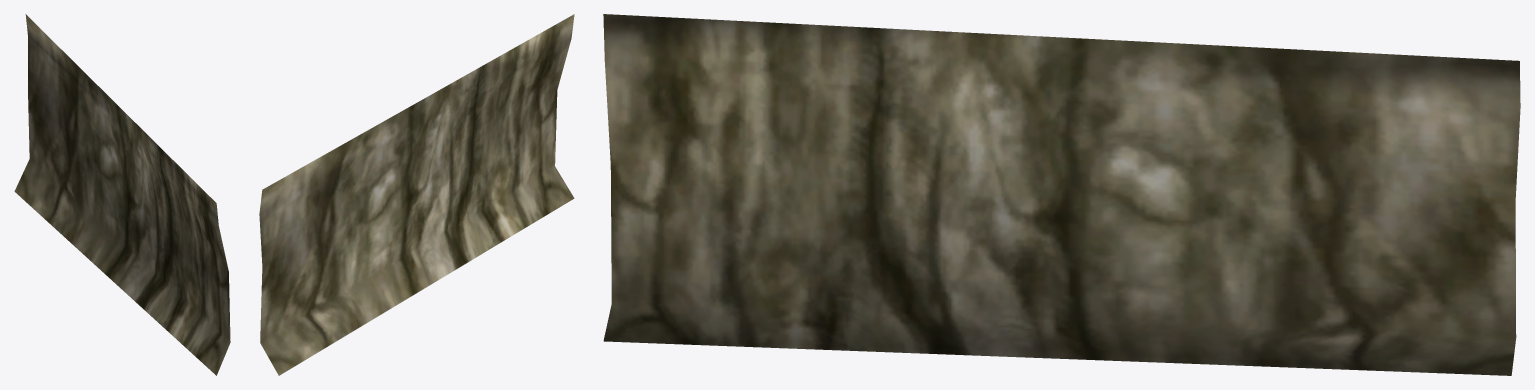
The model's file is CB_NEWPLAYSURFACE_CB_PLAYSURFACE121.fbx.
3 renders of one model, left to right at view 1: azimuth 30°, elevation 25°; view 2: azimuth 150°, elevation 25°; view 3: azimuth 270°, elevation 25°, orthographic. The views are drawn at different scales.
Parts seen in each view (by area): view 1: CB_NEWPLAYSURFACE_CB_PLAYSURFACE121; view 2: CB_NEWPLAYSURFACE_CB_PLAYSURFACE121; view 3: CB_NEWPLAYSURFACE_CB_PLAYSURFACE121.
Part boxes in pixels (x1,y1,x2,y2): CB_NEWPLAYSURFACE_CB_PLAYSURFACE121: [14, 14, 230, 375]; CB_NEWPLAYSURFACE_CB_PLAYSURFACE121: [259, 14, 574, 375]; CB_NEWPLAYSURFACE_CB_PLAYSURFACE121: [603, 14, 1520, 375].
Size of the model in its own units: 13012 by 40000 by 101529.
Materials: 2 (2 with a texture image).
